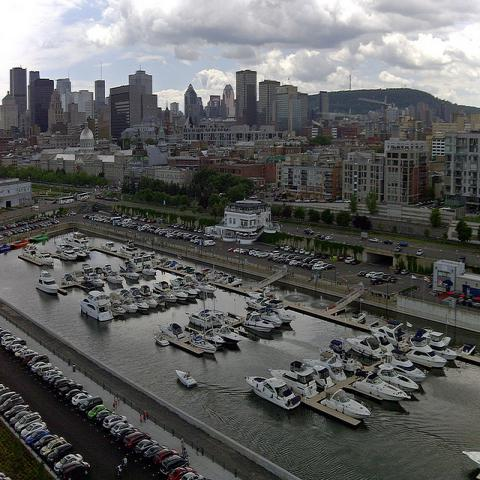bus: (59, 196, 74, 205)
car: (0, 170, 477, 479), (14, 412, 43, 432), (20, 422, 48, 440), (33, 434, 58, 454), (40, 439, 66, 457), (371, 276, 385, 286), (372, 272, 384, 279), (388, 275, 398, 283), (365, 272, 376, 279), (358, 270, 368, 276), (417, 248, 425, 255), (253, 250, 261, 256), (249, 250, 256, 256), (402, 269, 408, 274)
